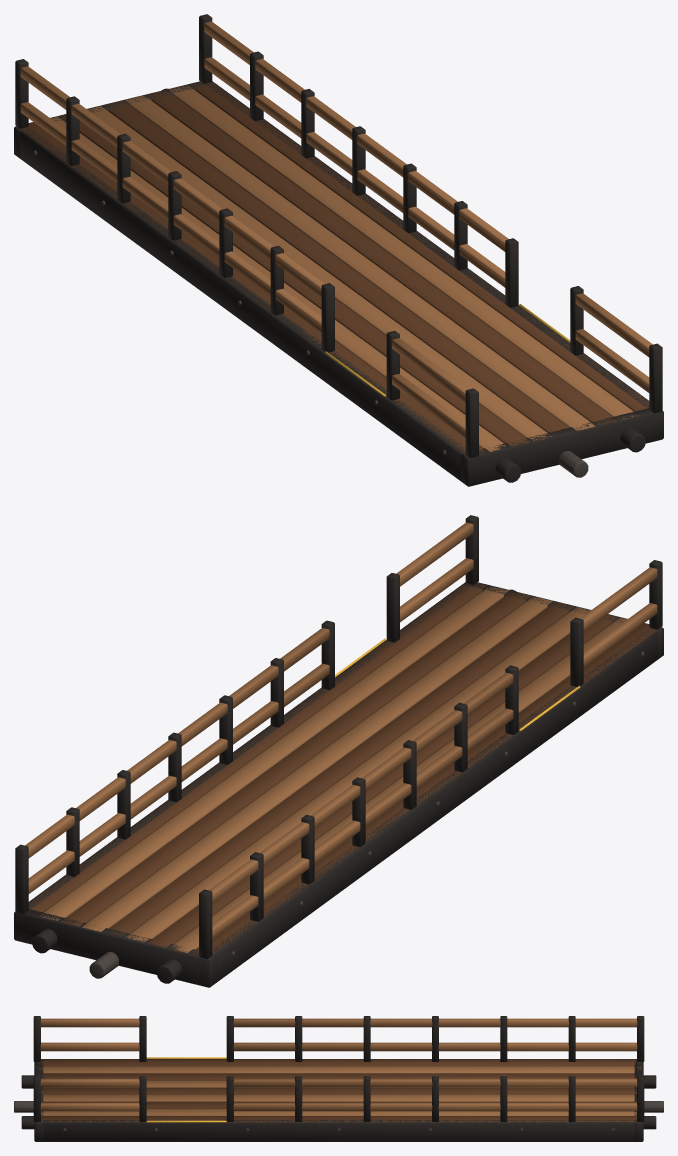
The model's file is car_flatrepair.glb.
3 renders of one model, top to bottom at view 1: azimuth 30°, elevation 25°; view 2: azimuth 150°, elevation 25°; view 3: azimuth 270°, elevation 25°, orthographic. The views are drawn at different scales.
Visible parts, largest first — view 1: sill-1, deck5, deck6, deck7, deck4, deck8, deck3, endbeam-6.0, deck0, deck2, rail-1-2.22.02, rail1-2.22.02 (+27 smaller); view 2: sill-1, deck5, deck6, deck4, deck7, deck8, deck3, deck0, endbeam6.0, deck2, rail-1-2.22.02, rail1-2.22.02 (+27 smaller); view 3: sill1, deck1, deck0, deck4, deck5, rail1-2.22.02, rail-1-2.21.5, rail-1-2.22.02, rail1-2.21.5, deck2, deck8, deck7 (+30 smaller).
Boxes of the visible parts, x1,y1,x2,y2 form: sill-1: (14,127,478,486); deck5: (125,96,595,430); deck6: (147,90,616,425); deck7: (169,85,638,419); deck4: (104,100,568,435); deck8: (190,82,649,411); deck3: (87,106,552,441); endbeam-6.0: (461,408,663,486); deck0: (17,122,484,455); deck2: (60,114,530,446); rail-1-2.22.02: (20,66,324,296); rail1-2.22.02: (204,21,508,251); sill-1: (199,627,663,986); deck5: (82,596,552,931); deck6: (60,591,530,926); deck4: (105,602,573,936); deck7: (39,586,509,920); deck8: (29,583,487,912); deck3: (125,607,590,942); deck0: (192,623,660,957); endbeam6.0: (14,909,216,987); deck2: (147,614,617,947); rail-1-2.22.02: (209,672,513,903); rail1-2.22.02: (25,628,329,858); sill1: (35,1119,642,1141); deck1: (36,1066,641,1073); deck0: (38,1059,641,1066); deck4: (41,1087,636,1094); deck5: (43,1094,634,1101); rail1-2.22.02: (233,1078,637,1087); rail-1-2.21.5: (233,1042,637,1051); rail-1-2.22.02: (233,1018,637,1027); rail1-2.21.5: (233,1102,637,1111); deck2: (43,1073,636,1080); deck8: (39,1116,636,1122); deck7: (41,1109,636,1115).
Bounding box in the file's own units: 3.05 × 1.41 × 12.8.
